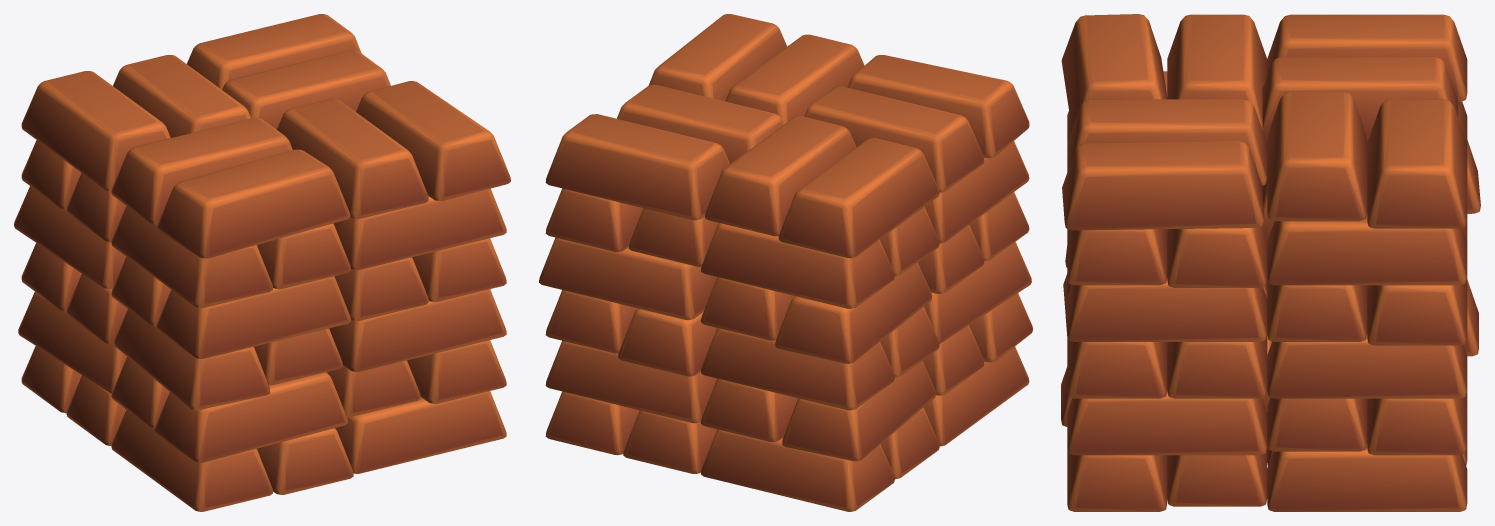
Rendered from Copper_Bars_Stack_Large.glb.
The picture shows the model from 3 angles, left to right: view 1: azimuth 30°, elevation 25°; view 2: azimuth 150°, elevation 25°; view 3: azimuth 270°, elevation 25°; orthographic projection. The views are drawn at different scales.
Visible parts, largest first — view 1: Copper_Bars_Stack_Large; view 2: Copper_Bars_Stack_Large; view 3: Copper_Bars_Stack_Large.
Boxes of the visible parts, x1,y1,x2,y2 form: Copper_Bars_Stack_Large: (14,14,510,511); Copper_Bars_Stack_Large: (539,14,1032,511); Copper_Bars_Stack_Large: (1061,14,1480,511).
Size of the model in its own units: 1.66 by 1.5 by 1.68.
1 material, 1 textured.
